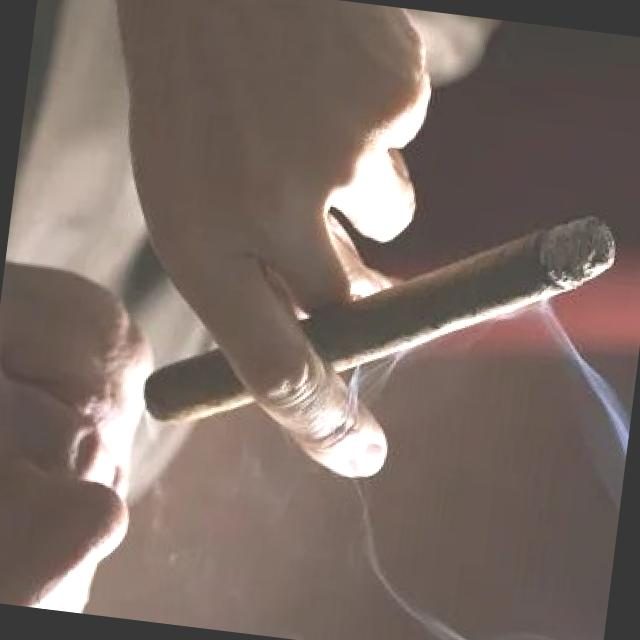smoke: (138, 160, 619, 478)
